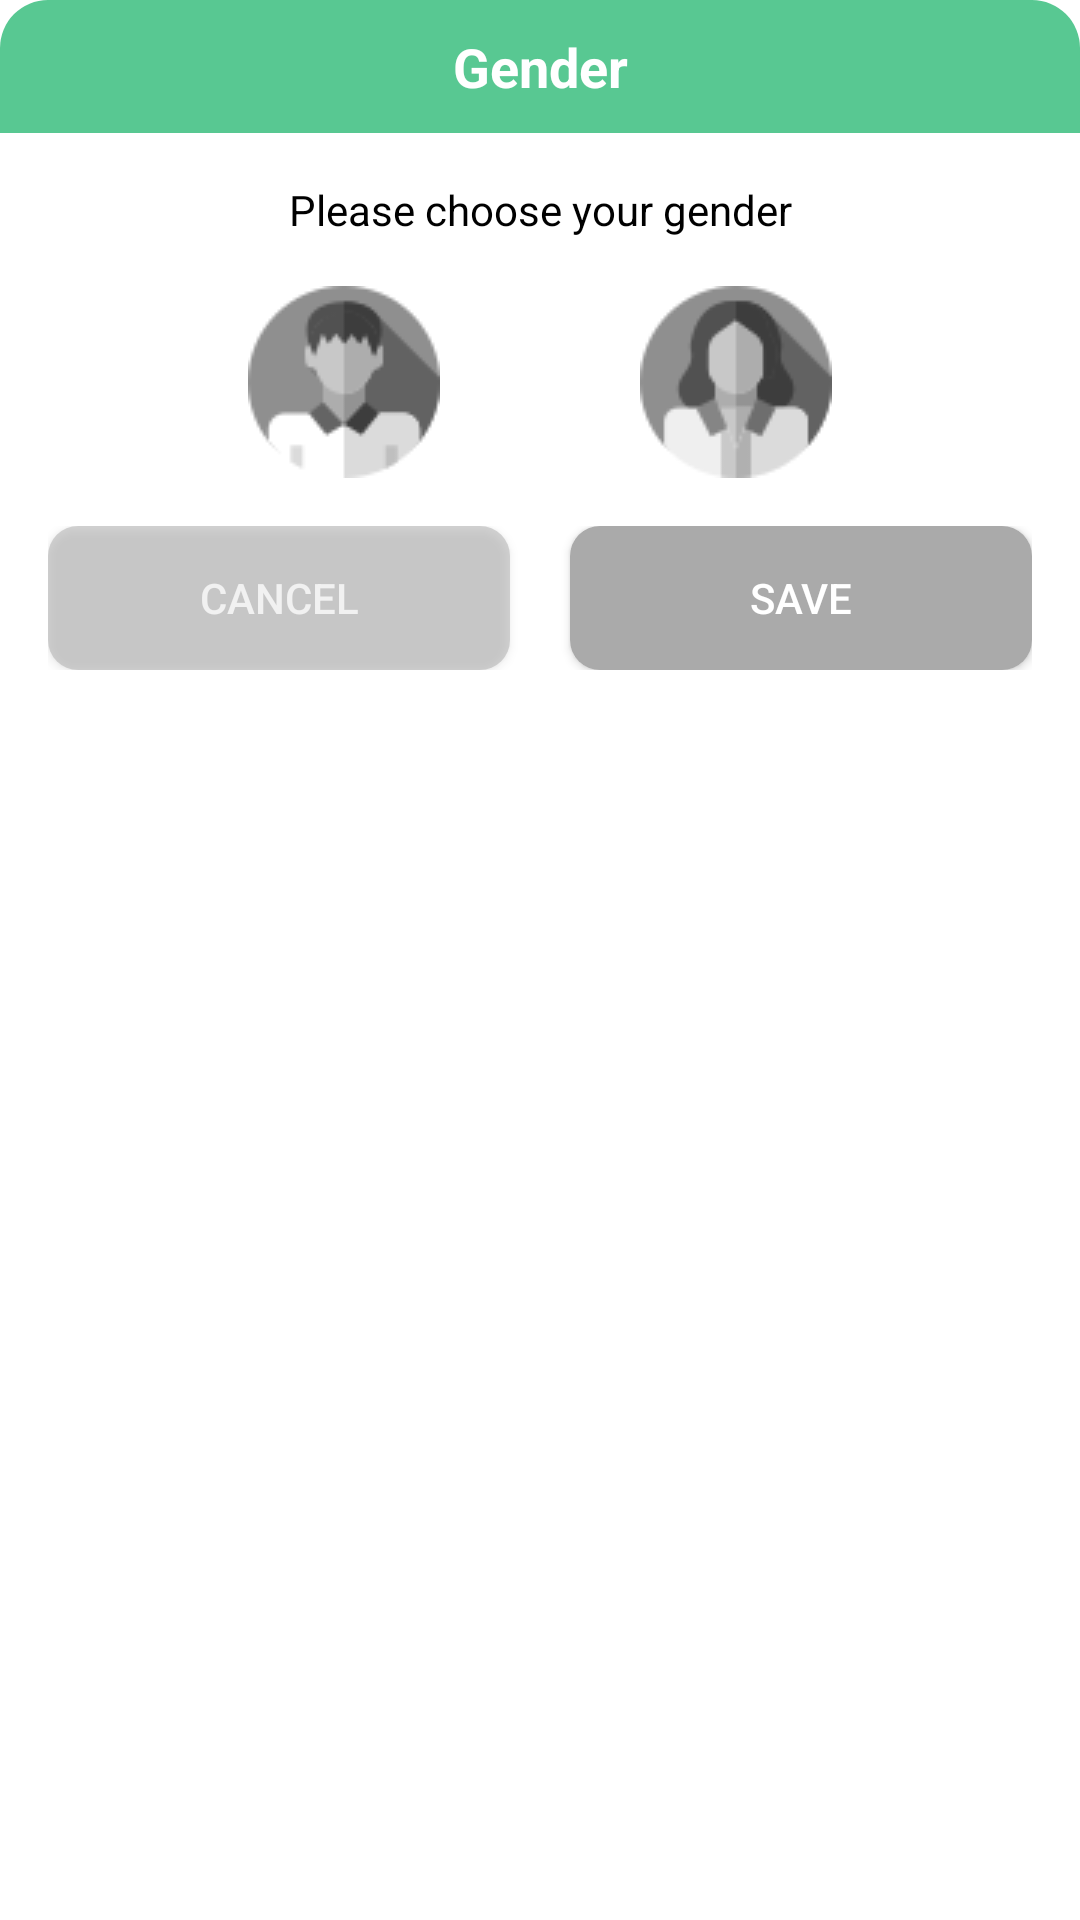

Named icons in this screenshot (1080px×1920px) and their bounding boxes, {"x1": x1, "y1": y1, "x2": x2, "y2": y2}:
female checkbox: {"x1": 640, "y1": 286, "x2": 832, "y2": 478}
male checkbox: {"x1": 248, "y1": 286, "x2": 440, "y2": 478}
